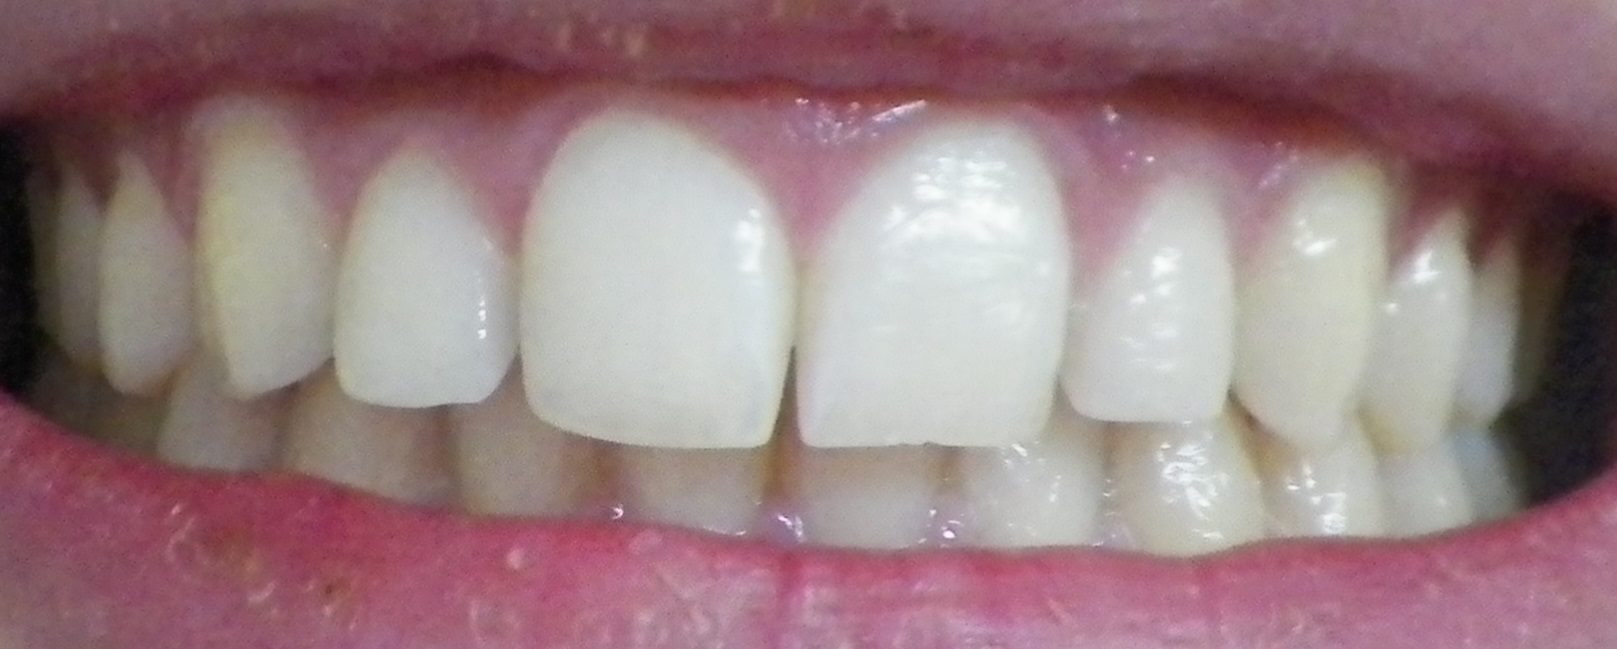boca: (16, 103, 1541, 549)
